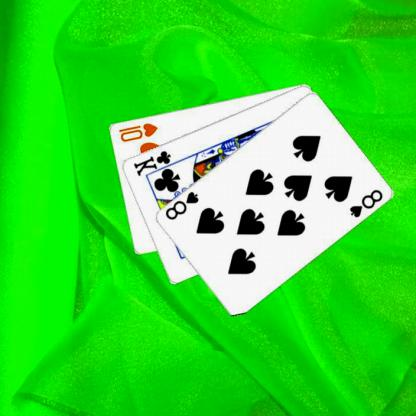10H: (118, 120, 160, 143)
8S: (164, 189, 202, 221), (348, 187, 385, 219)
KC: (132, 148, 180, 178)
